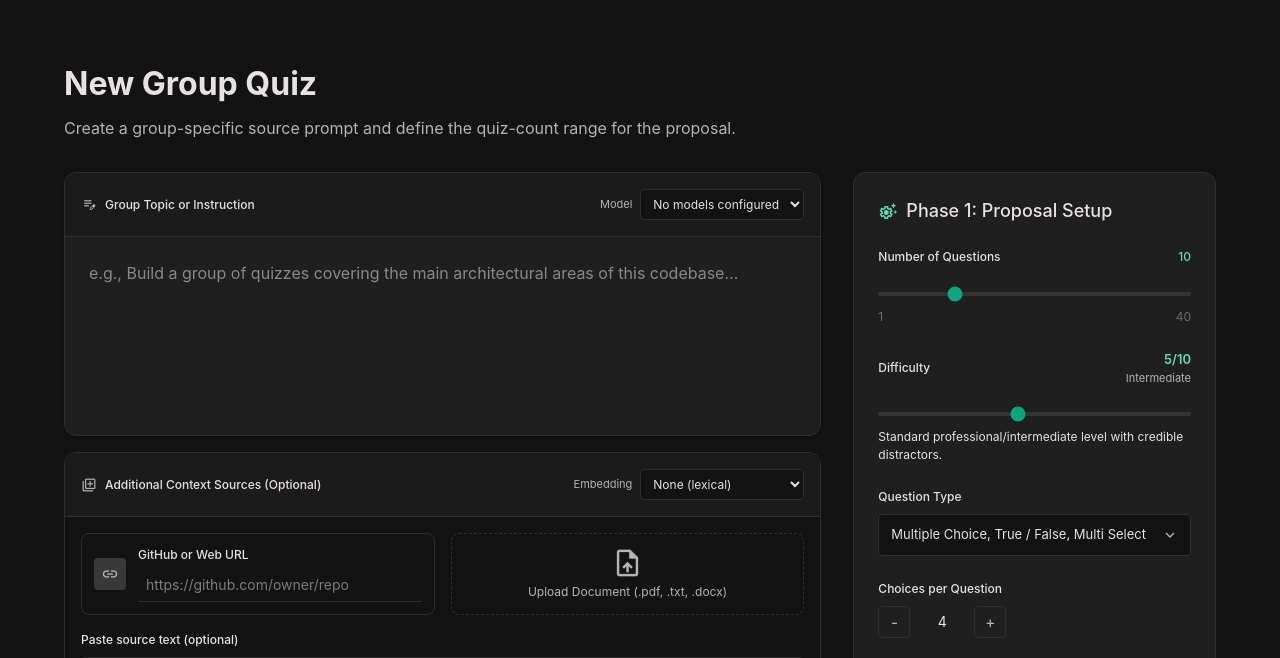
Test: GroupQuizWizardPage › enters phase 2 after a completed proposal job and can go back to phase 1
The width and height of the screenshot is (1280, 658).
Expected: the text "Group Topic or Instruction" is shown, [81,196,255,214]
Replace the text in the text box with placeholder "Build a group of quizzes" with "Test group topic" at (443, 333), box [65,237,820,429]
(page scrolled)
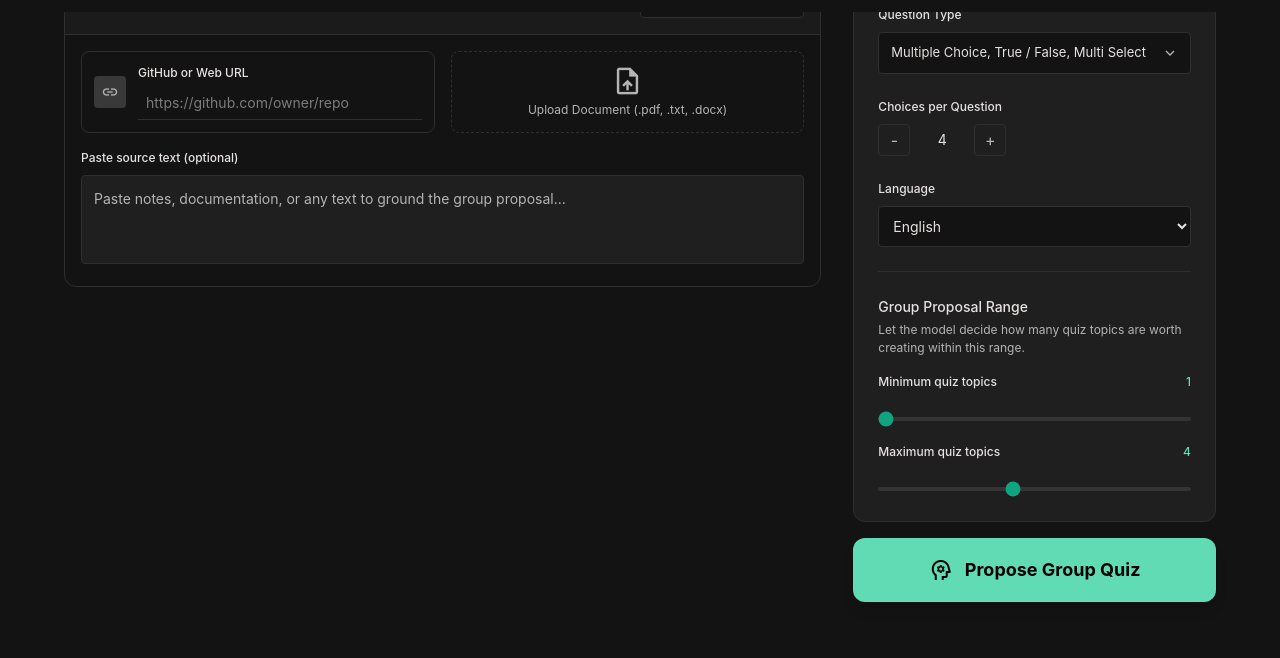
Click the button "Propose Group Quiz" at (1035, 570), box [853,538,1216,602]
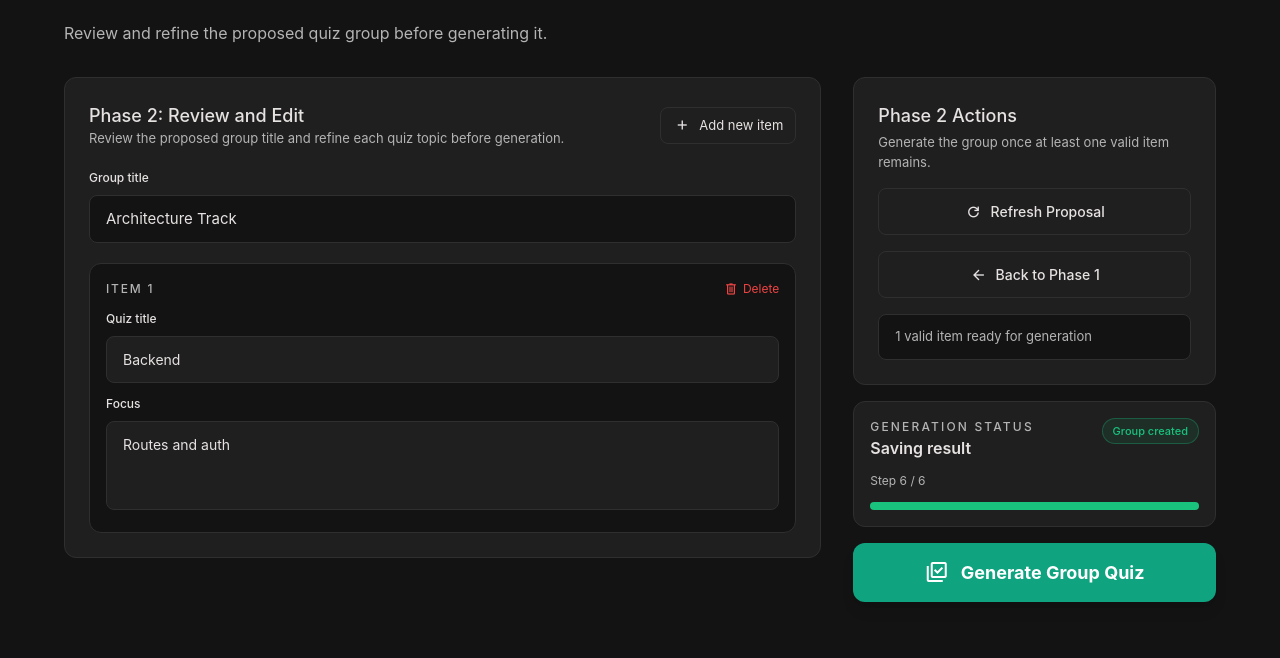
Expected: the heading "Phase 2: Review and Edit" is shown, [89,105,304,126]
Click the button "Back to Phase 1" at (1035, 274), box [878,251,1191,298]
(page scrolled)
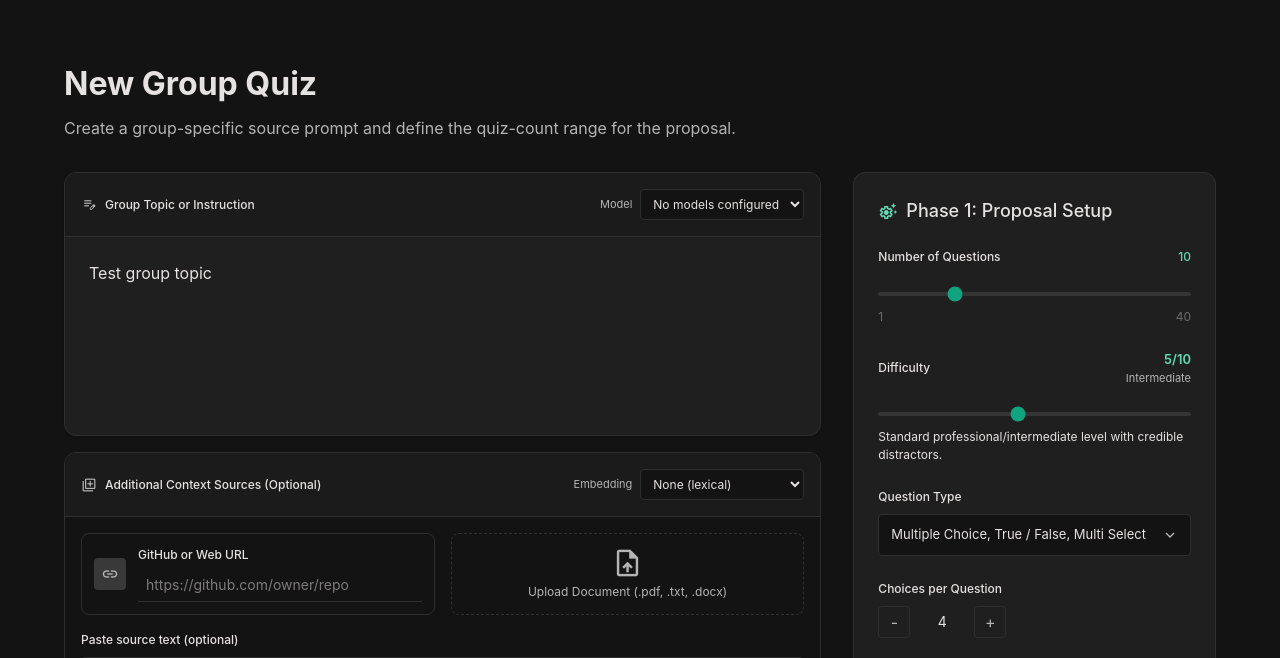
Expected: the heading "Phase 1: Proposal Setup" is shown, [906,197,1112,224]
